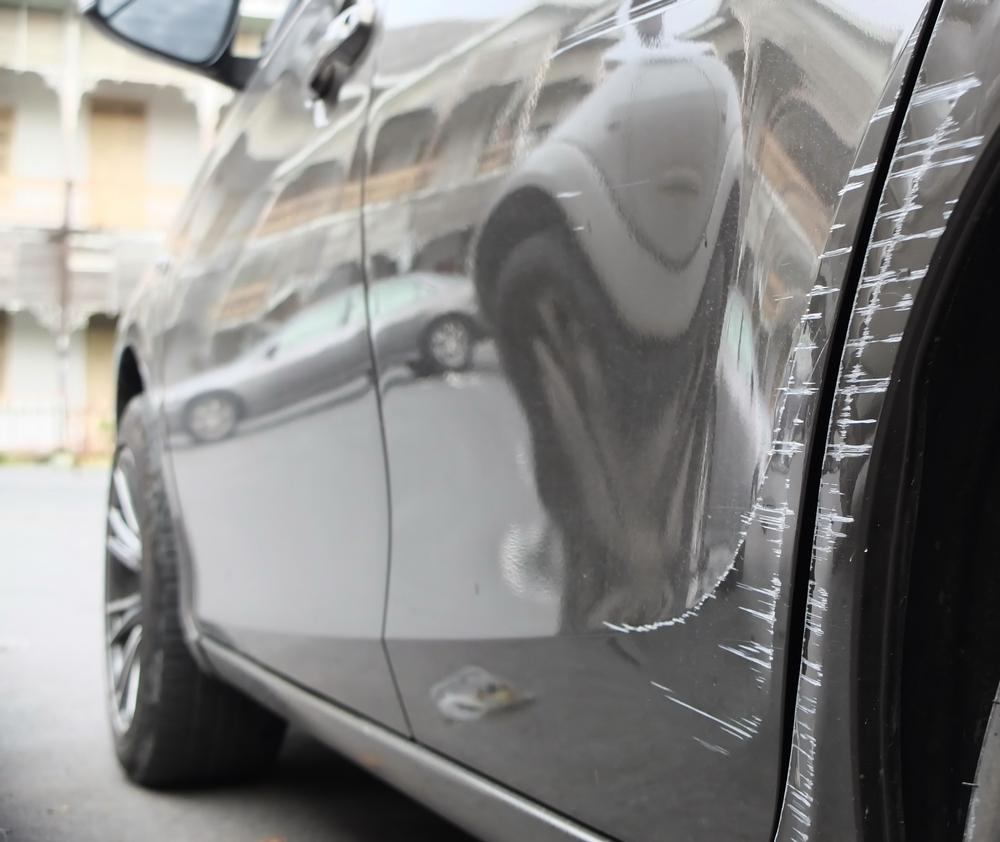scratch: (603, 71, 909, 766), (777, 65, 1000, 842)
